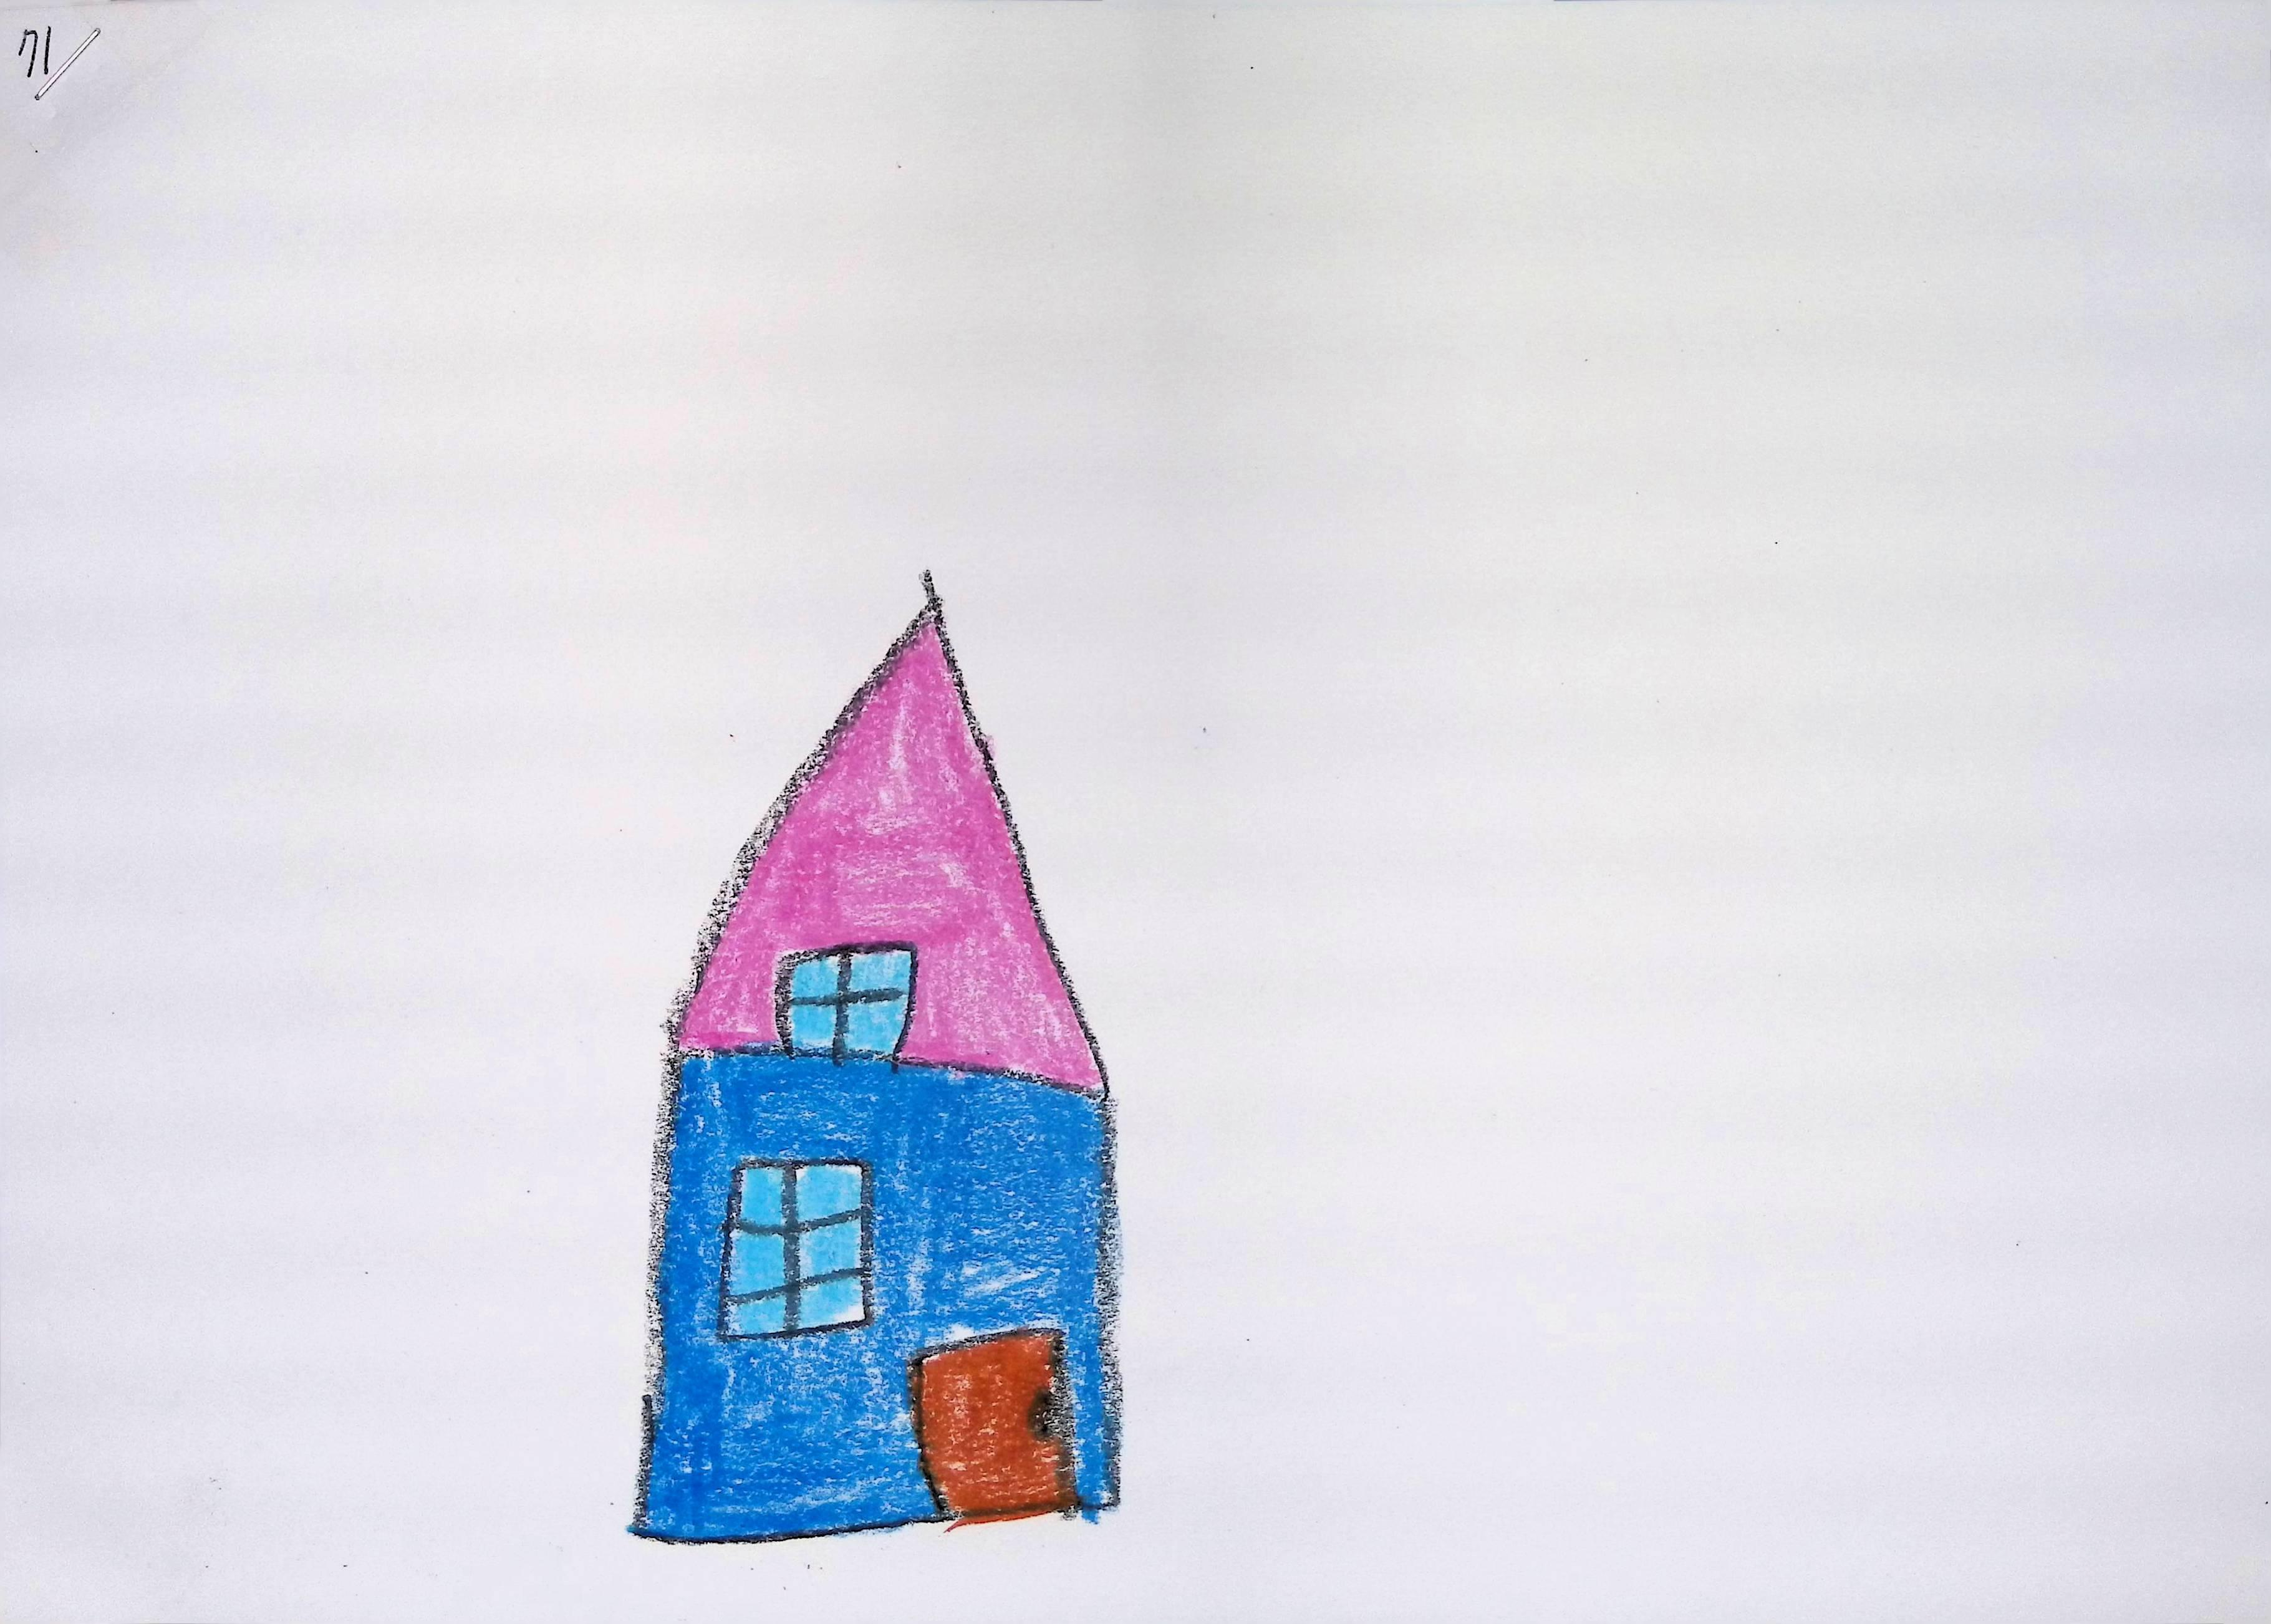door: (914, 1332, 1069, 1527)
house: (635, 576, 1118, 1541)
roof: (657, 578, 1118, 1104)
wall: (629, 1056, 1118, 1547)
window: (715, 1162, 870, 1338), (779, 947, 921, 1063)
